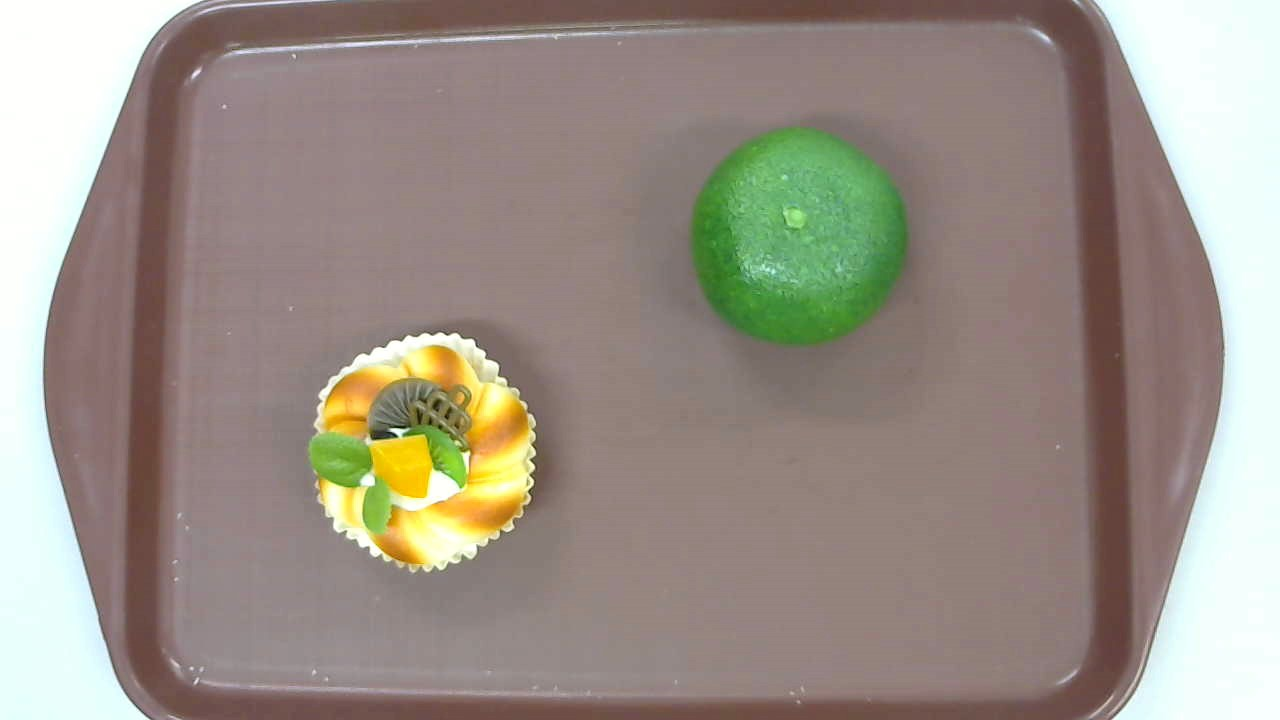fruit tart: (307, 331, 538, 574)
green orange: (691, 127, 905, 346)
